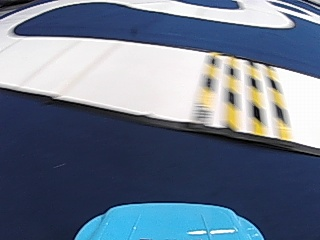bump: (192, 57, 292, 137)
